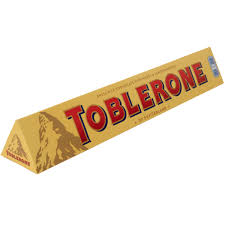Chocolate: (1, 35, 225, 185)
